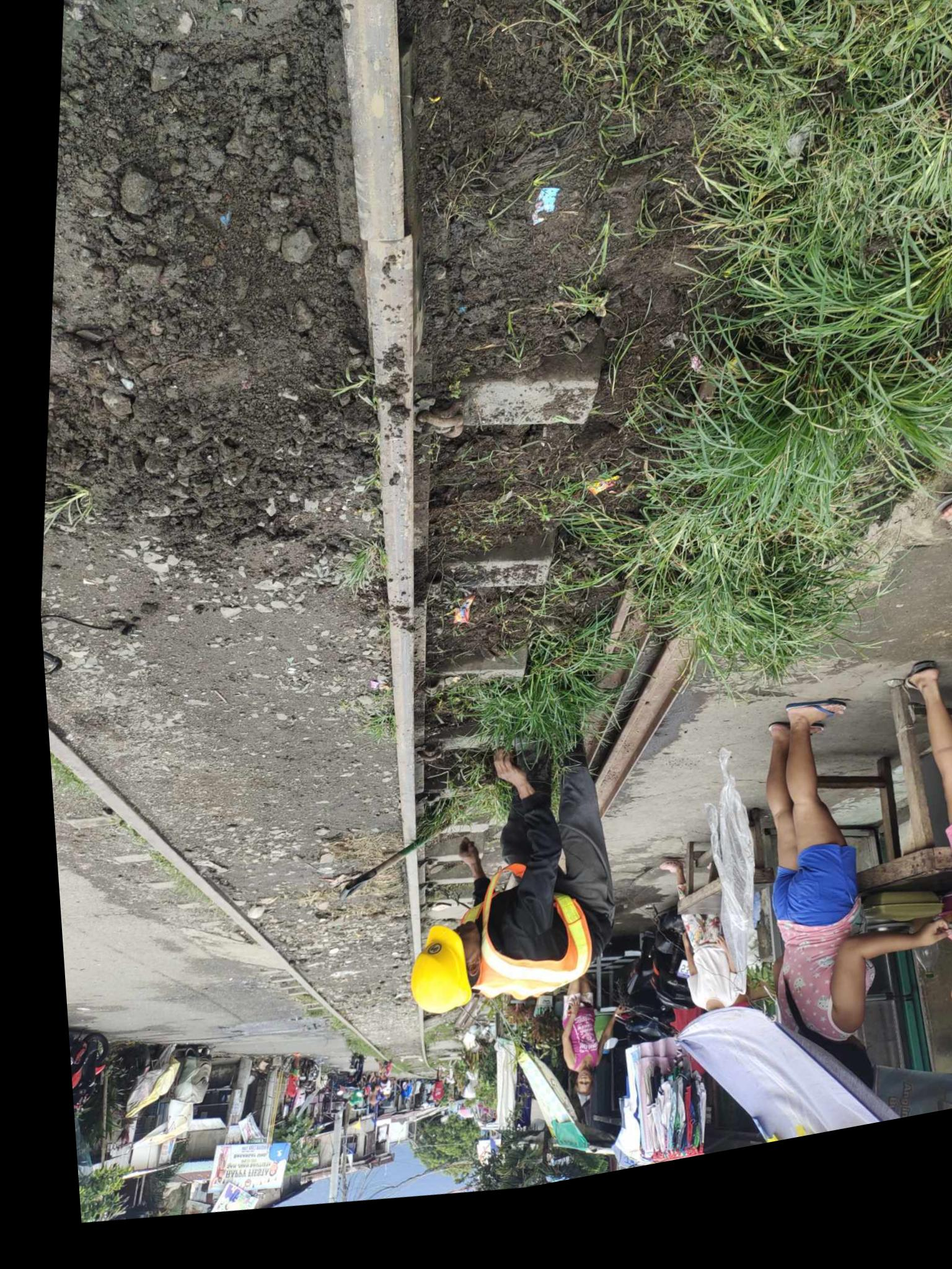person: (332, 195, 436, 310)
